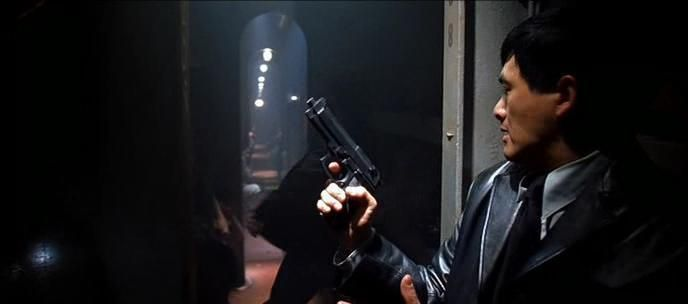gun: (280, 86, 378, 232)
